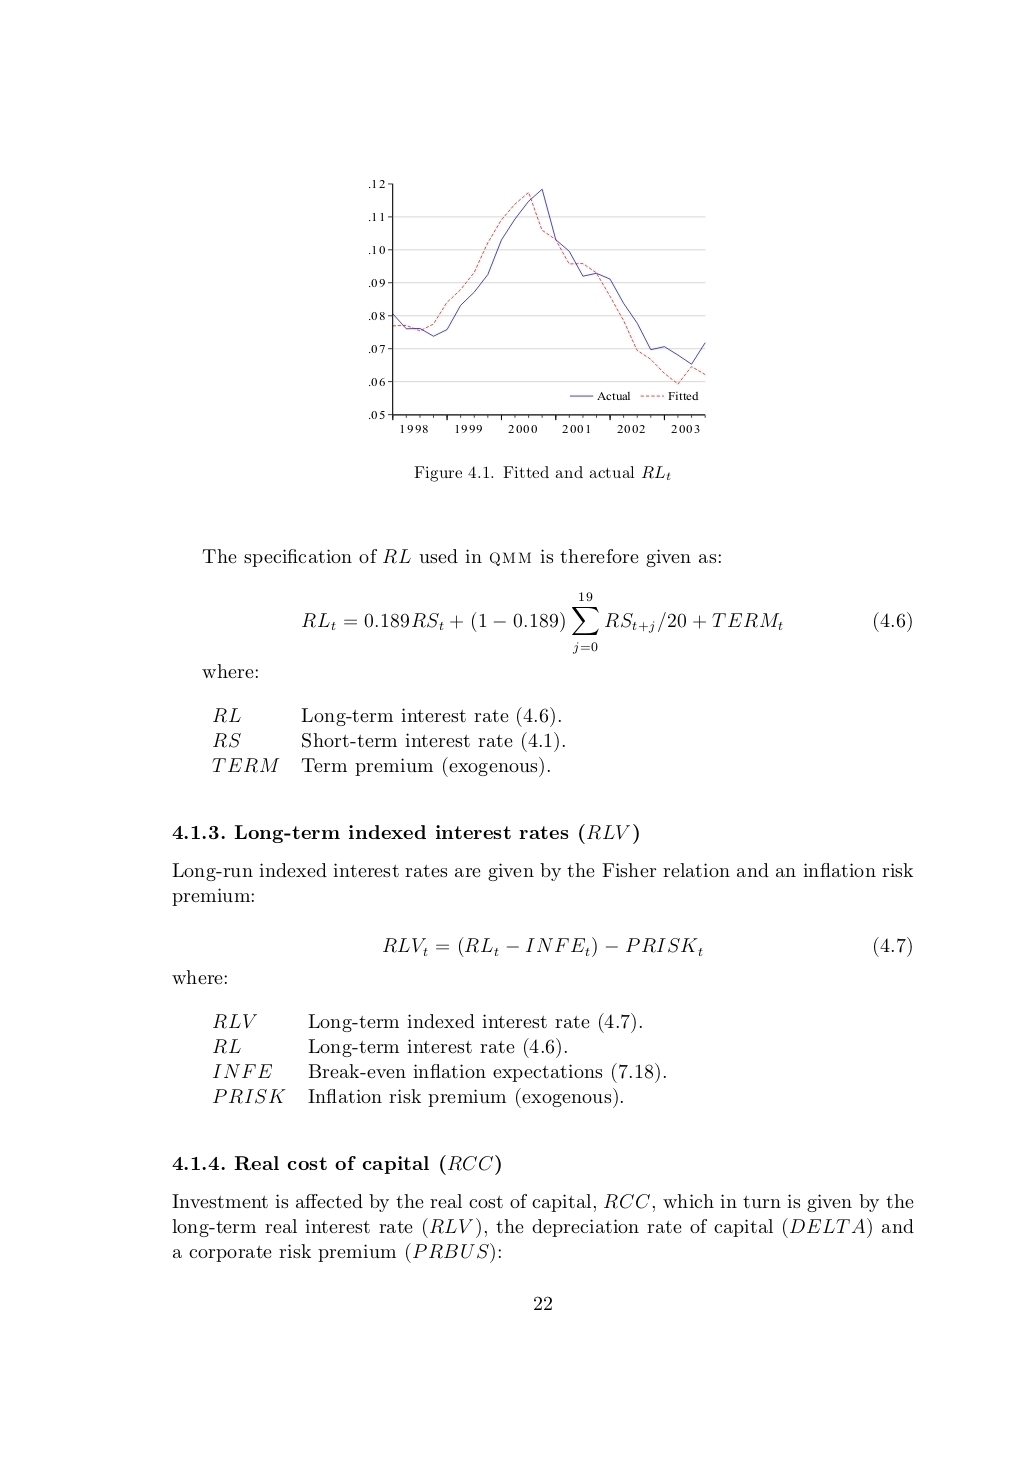figure: (369, 180, 705, 433)
formula: (302, 592, 911, 653), (383, 935, 911, 957)
